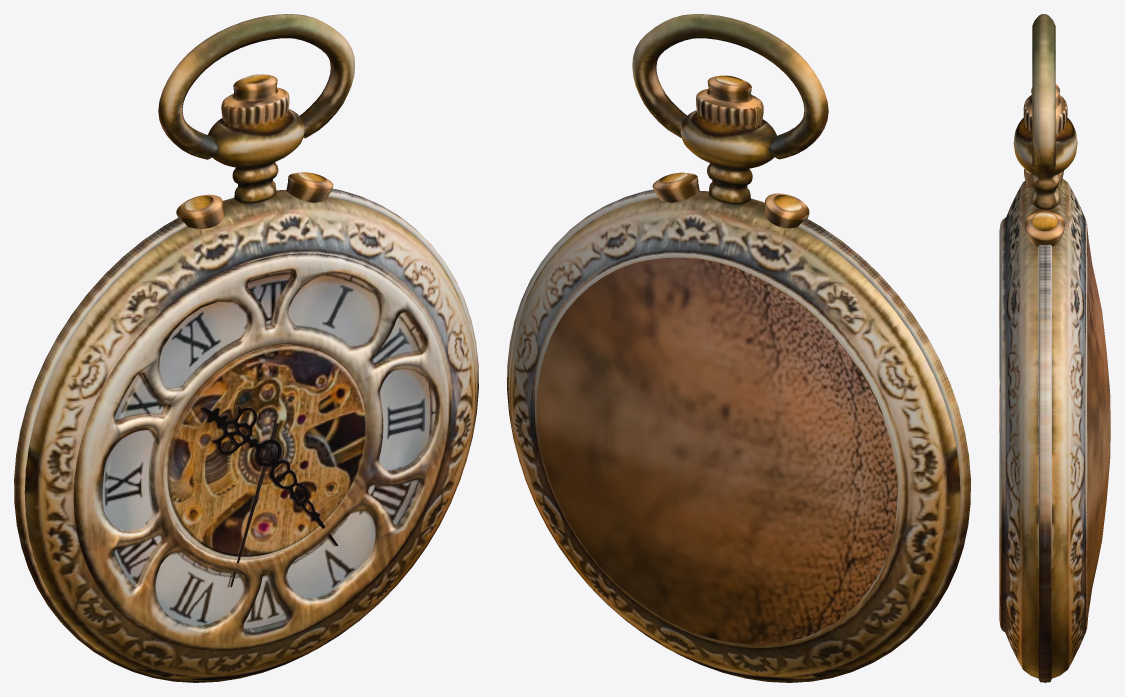
The model's file is OLD WATCH 2.dae.
3 views of the same model, side by side, from view 1: azimuth 30°, elevation 25°; view 2: azimuth 150°, elevation 25°; view 3: azimuth 270°, elevation 25° (orthographic). The views are drawn at different scales.
Visible parts, largest first — view 1: Circle_005, Circle_003, Circle_001; view 2: Circle_005; view 3: Circle_005, Circle_003.
Part boxes in pixels (<box>): Circle_005: <box>14,14,478,682</box>; Circle_003: <box>73,253,450,651</box>; Circle_001: <box>167,345,366,556</box>; Circle_005: <box>507,14,970,682</box>; Circle_005: <box>1005,14,1110,682</box>; Circle_003: <box>999,217,1005,632</box>.
Size of the model in its own units: 3.57 by 0.7707 by 4.85.
